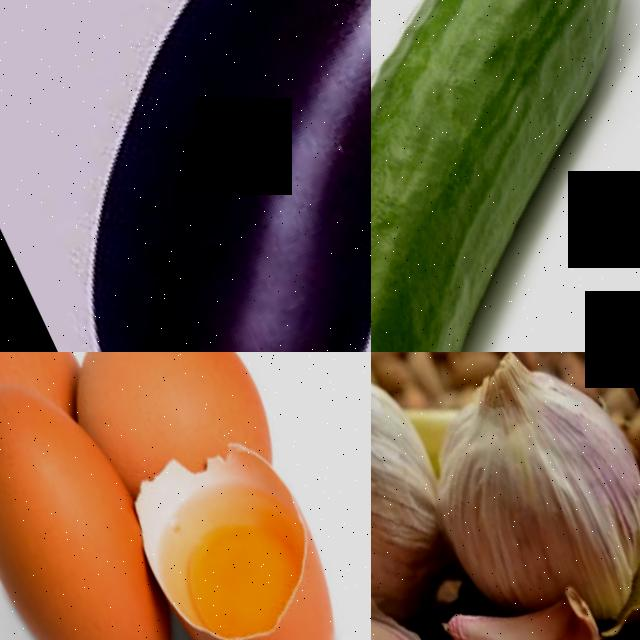cucumber: (371, 0, 640, 352)
egg_: (0, 352, 203, 640), (106, 420, 371, 640), (55, 352, 278, 493)
eggplant: (0, 0, 371, 352)
garlic: (394, 352, 640, 631), (371, 356, 467, 610), (437, 554, 616, 640), (371, 572, 455, 640)
